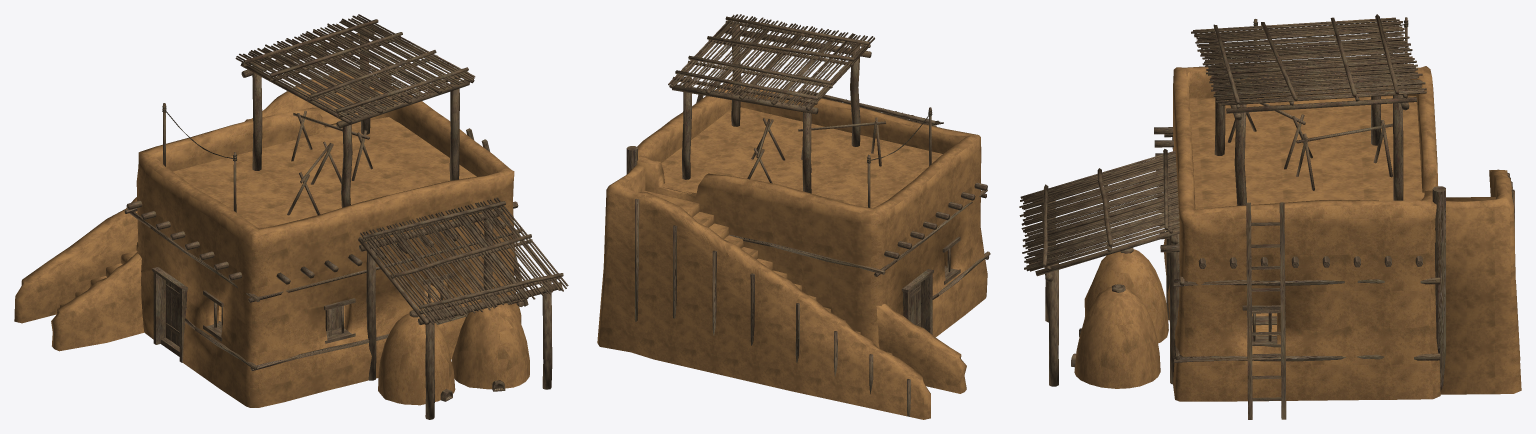
Rendered from adb_house_1.glb.
3 renders of one model, left to right at view 1: azimuth 30°, elevation 25°; view 2: azimuth 150°, elevation 25°; view 3: azimuth 270°, elevation 25°, orthographic. The views are drawn at different scales.
Visible parts, largest first — view 1: adb_house_1; view 2: adb_house_1; view 3: adb_house_1.
Boxes of the visible parts, x1=… form: adb_house_1: x1=14, y1=14, x2=568, y2=419; adb_house_1: x1=597, y1=14, x2=990, y2=419; adb_house_1: x1=1019, y1=14, x2=1521, y2=419.
Bounding box in the file's own units: 5.57 × 3.45 × 5.46.
3 materials, 3 textured.
